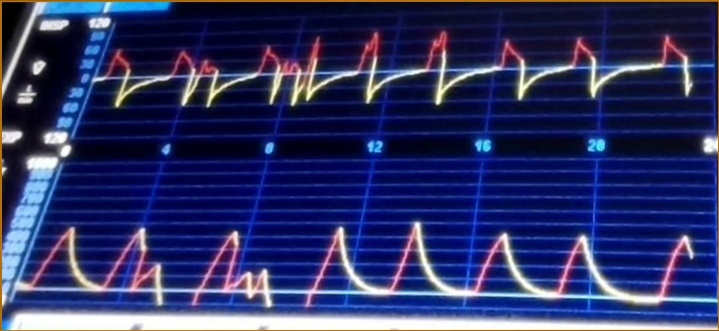Double_Triggering Flow: (104, 28, 698, 125)
Double_Triggering Volume: (39, 200, 696, 309)
